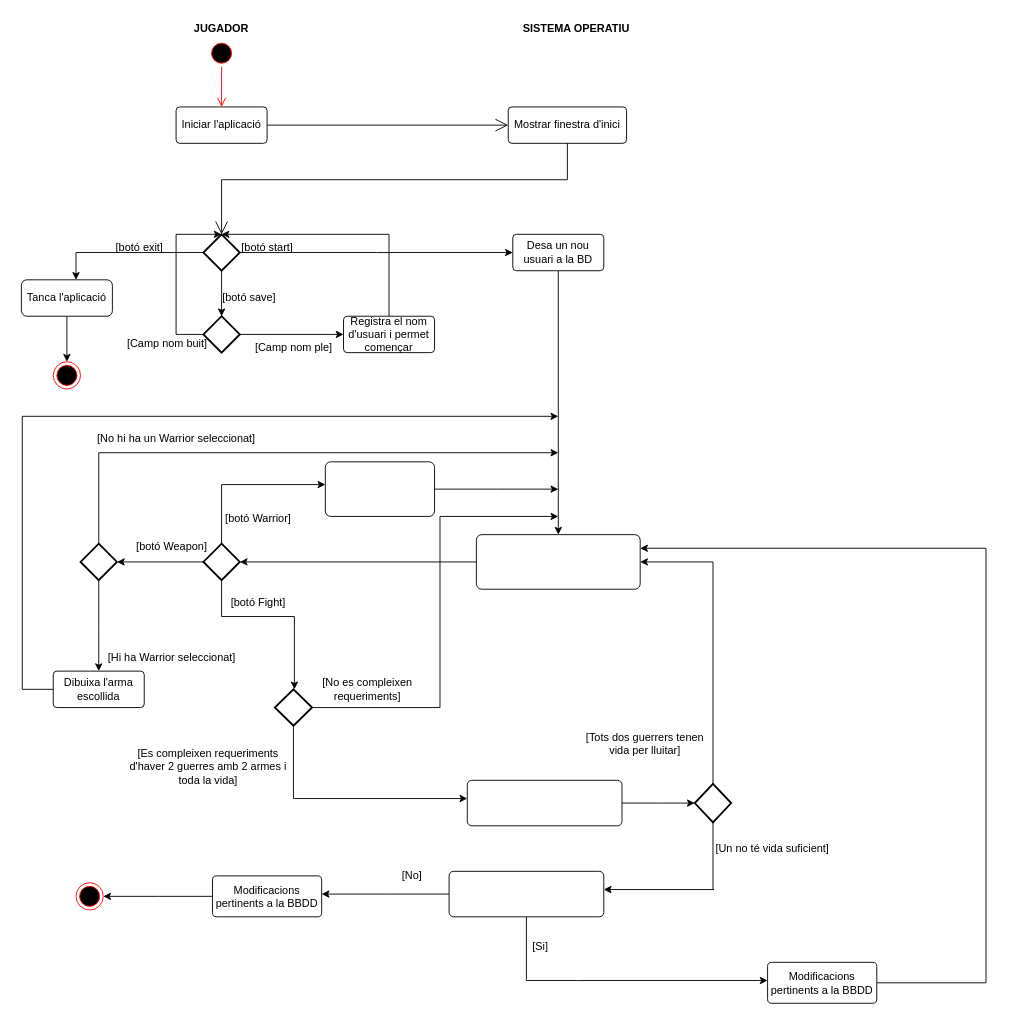
Image size: 1009x1019. Some labels were removed from this diagram. Here are the shapes that lost their labels. From the top down, the centre of each, then its label:
At pixel 379 488: "Dibuixa al Warrior escollit i enemic. Tots dos amb vida total".
At pixel 557 561: "Mostrar finestra lluita per mostrar els guerrers, armes i consola".
At pixel 544 802: "Té lloc una ronda de batalla i es representa el resultat a l'interficie gràfica".
At pixel 526 893: "Mostra finestra per nombrar al guanyador i preguntar si vol continuar jugant".
